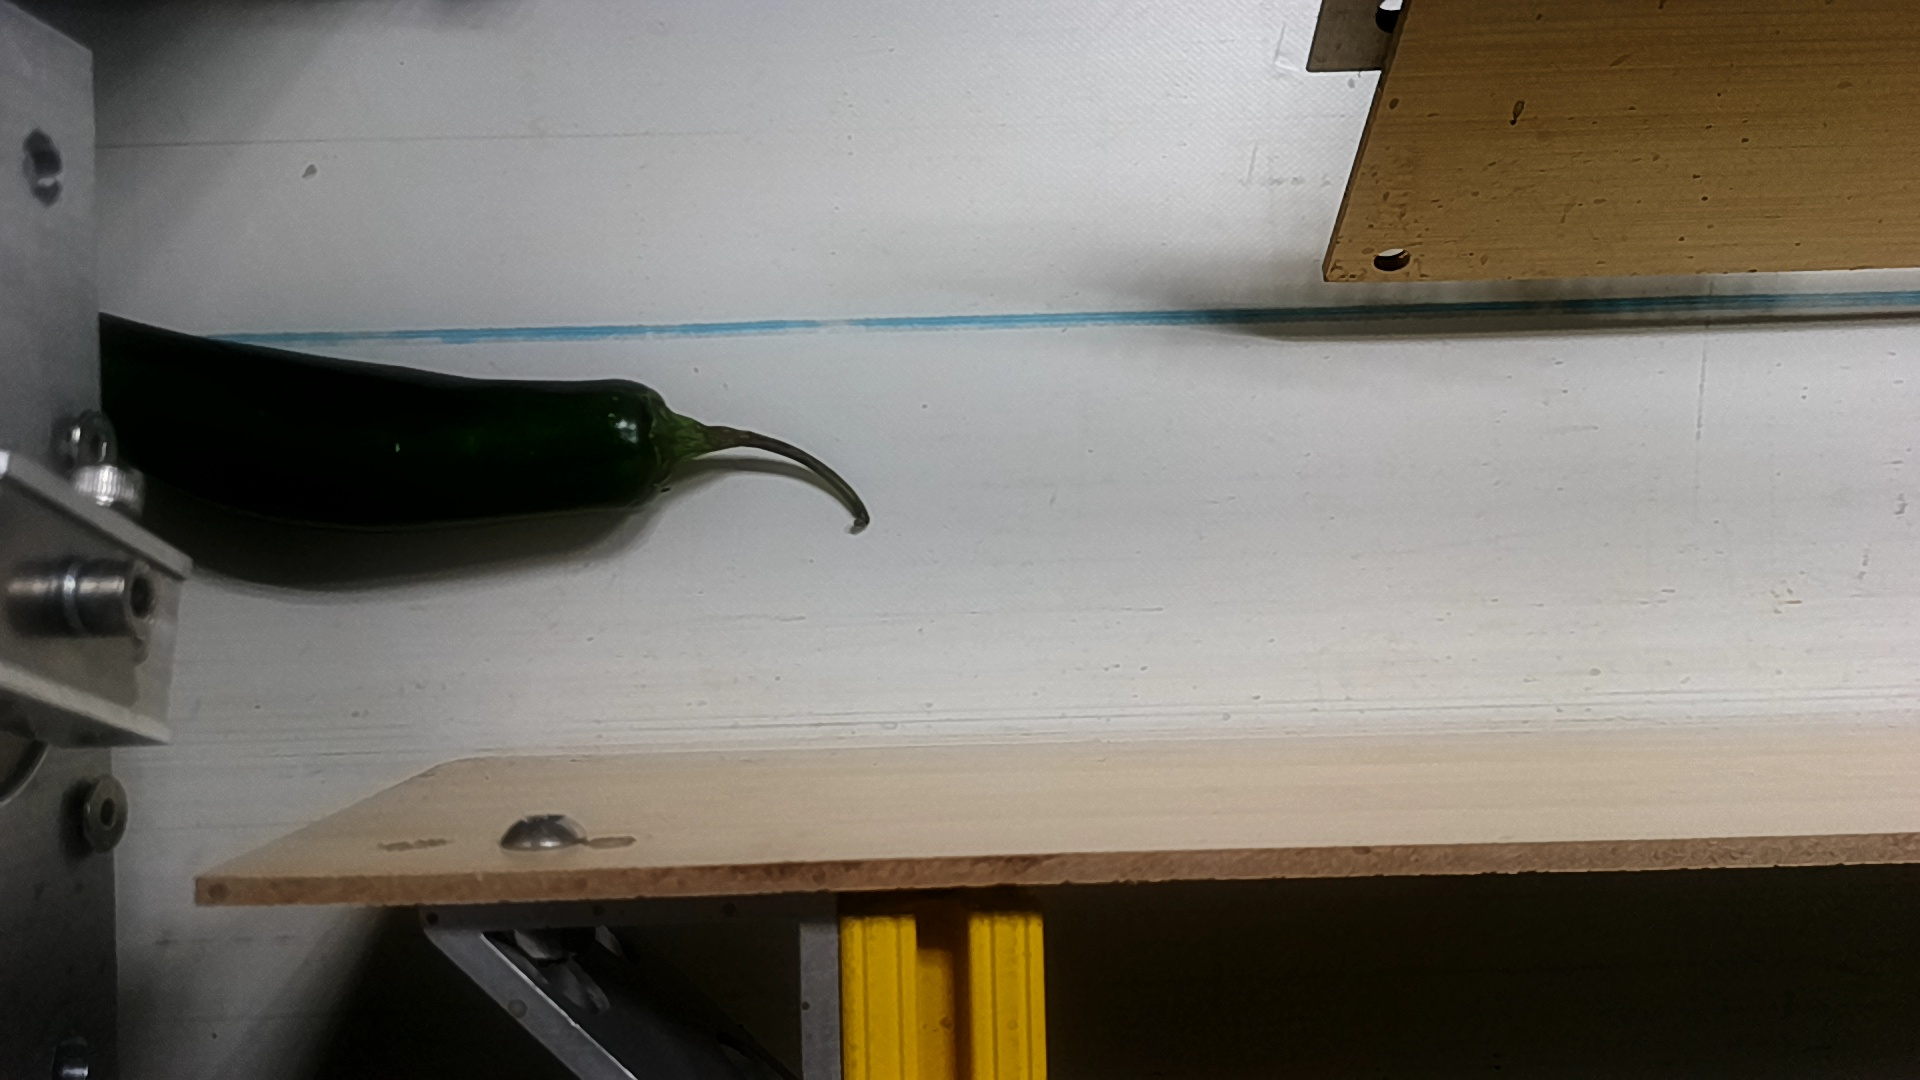Cut Point: (578, 371, 723, 513)
